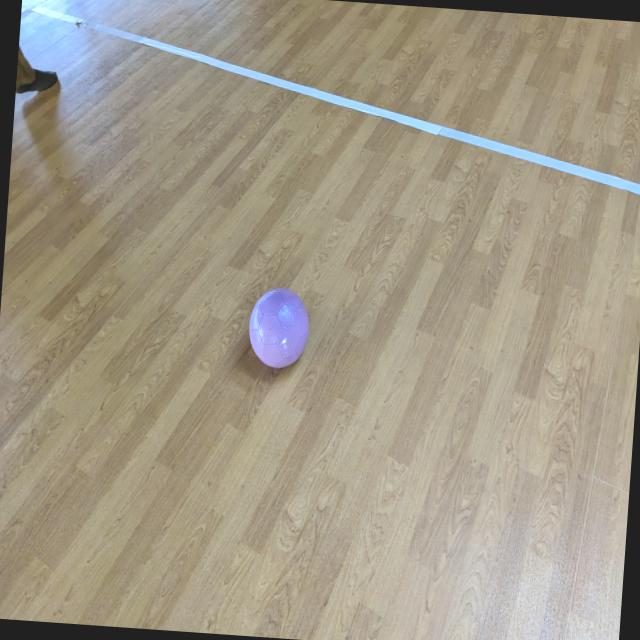purple_ball: (246, 285, 312, 370)
